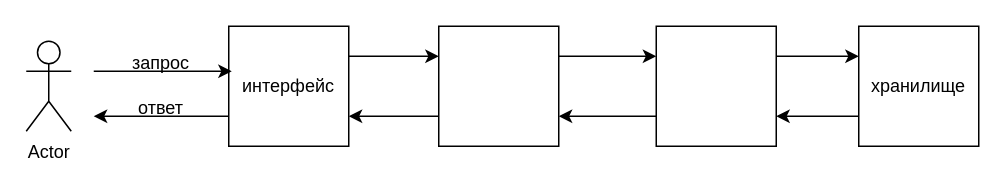
The diagram is 1005 pixels wide and 189 high, and some of its shapes have lost their labels. Each missing label, with the box of its shape:
Компонент алгоритма шифрования: (655, 25, 776, 146)
Компонент шифрования файлов: (437, 25, 559, 146)
